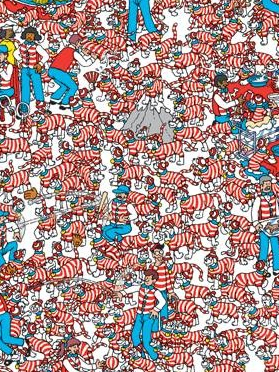waldo: (146, 242, 165, 263)
